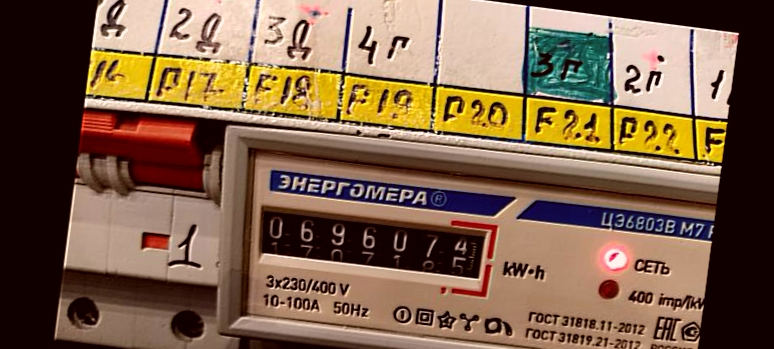0: (266, 213, 287, 240), (391, 226, 411, 254)
4: (454, 233, 470, 256)
5: (451, 255, 467, 276)
6: (360, 222, 380, 251), (297, 216, 318, 243)
7: (422, 231, 441, 259)
9: (329, 220, 349, 248)
screen: (248, 191, 502, 299)
